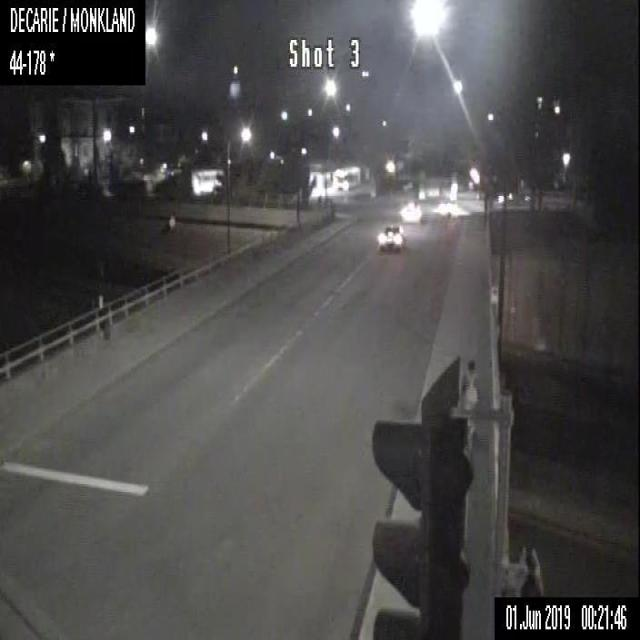pedestrian: (459, 360, 479, 437)
vehicle: (378, 222, 406, 250), (400, 201, 421, 223)
